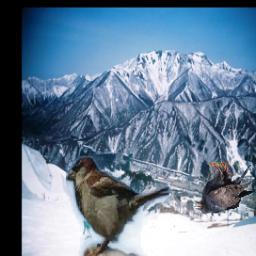Crow: (194, 162, 253, 213)
Sparrow: (66, 156, 169, 256)
